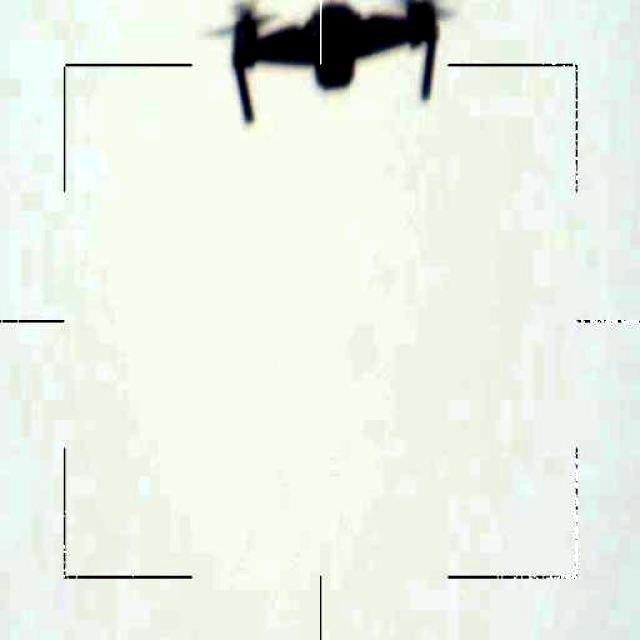bird: (196, 0, 458, 126)
